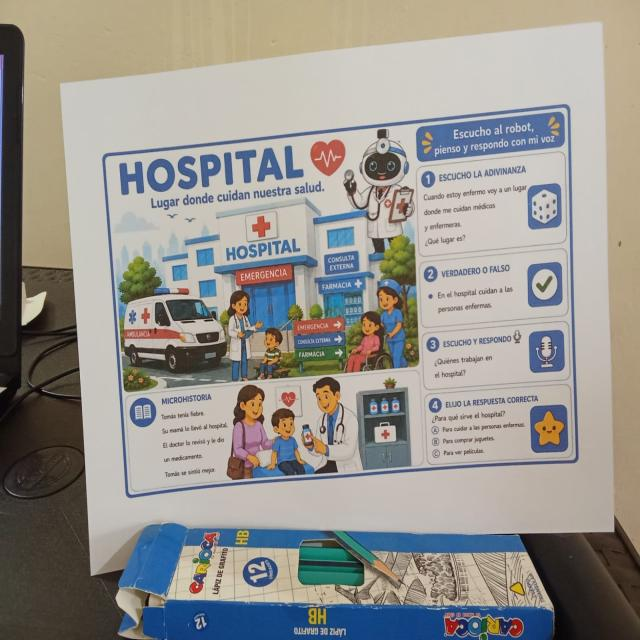hospital: (99, 100, 582, 503)
